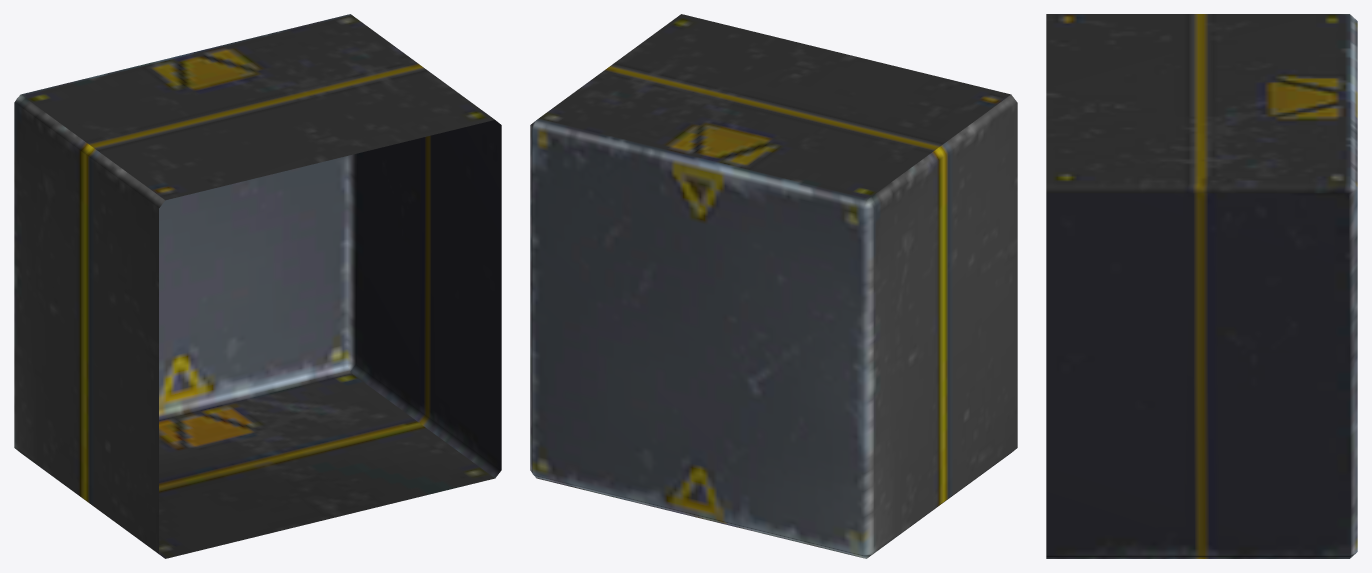
The picture shows the model from 3 angles, left to right: view 1: azimuth 30°, elevation 25°; view 2: azimuth 150°, elevation 25°; view 3: azimuth 270°, elevation 25°; orthographic projection. The views are drawn at different scales.
Parts seen in each view (by area): view 1: skin_crate_chbo_a; view 2: skin_crate_chbo_a; view 3: skin_crate_chbo_a.
Boxes of the visible parts, x1,y1,x2,y2 form: skin_crate_chbo_a: (14, 14, 501, 558); skin_crate_chbo_a: (530, 14, 1017, 558); skin_crate_chbo_a: (1046, 14, 1357, 558).
Size of the model in its own units: 0.9 by 0.9 by 0.675.
Materials: 1 (1 with a texture image).
